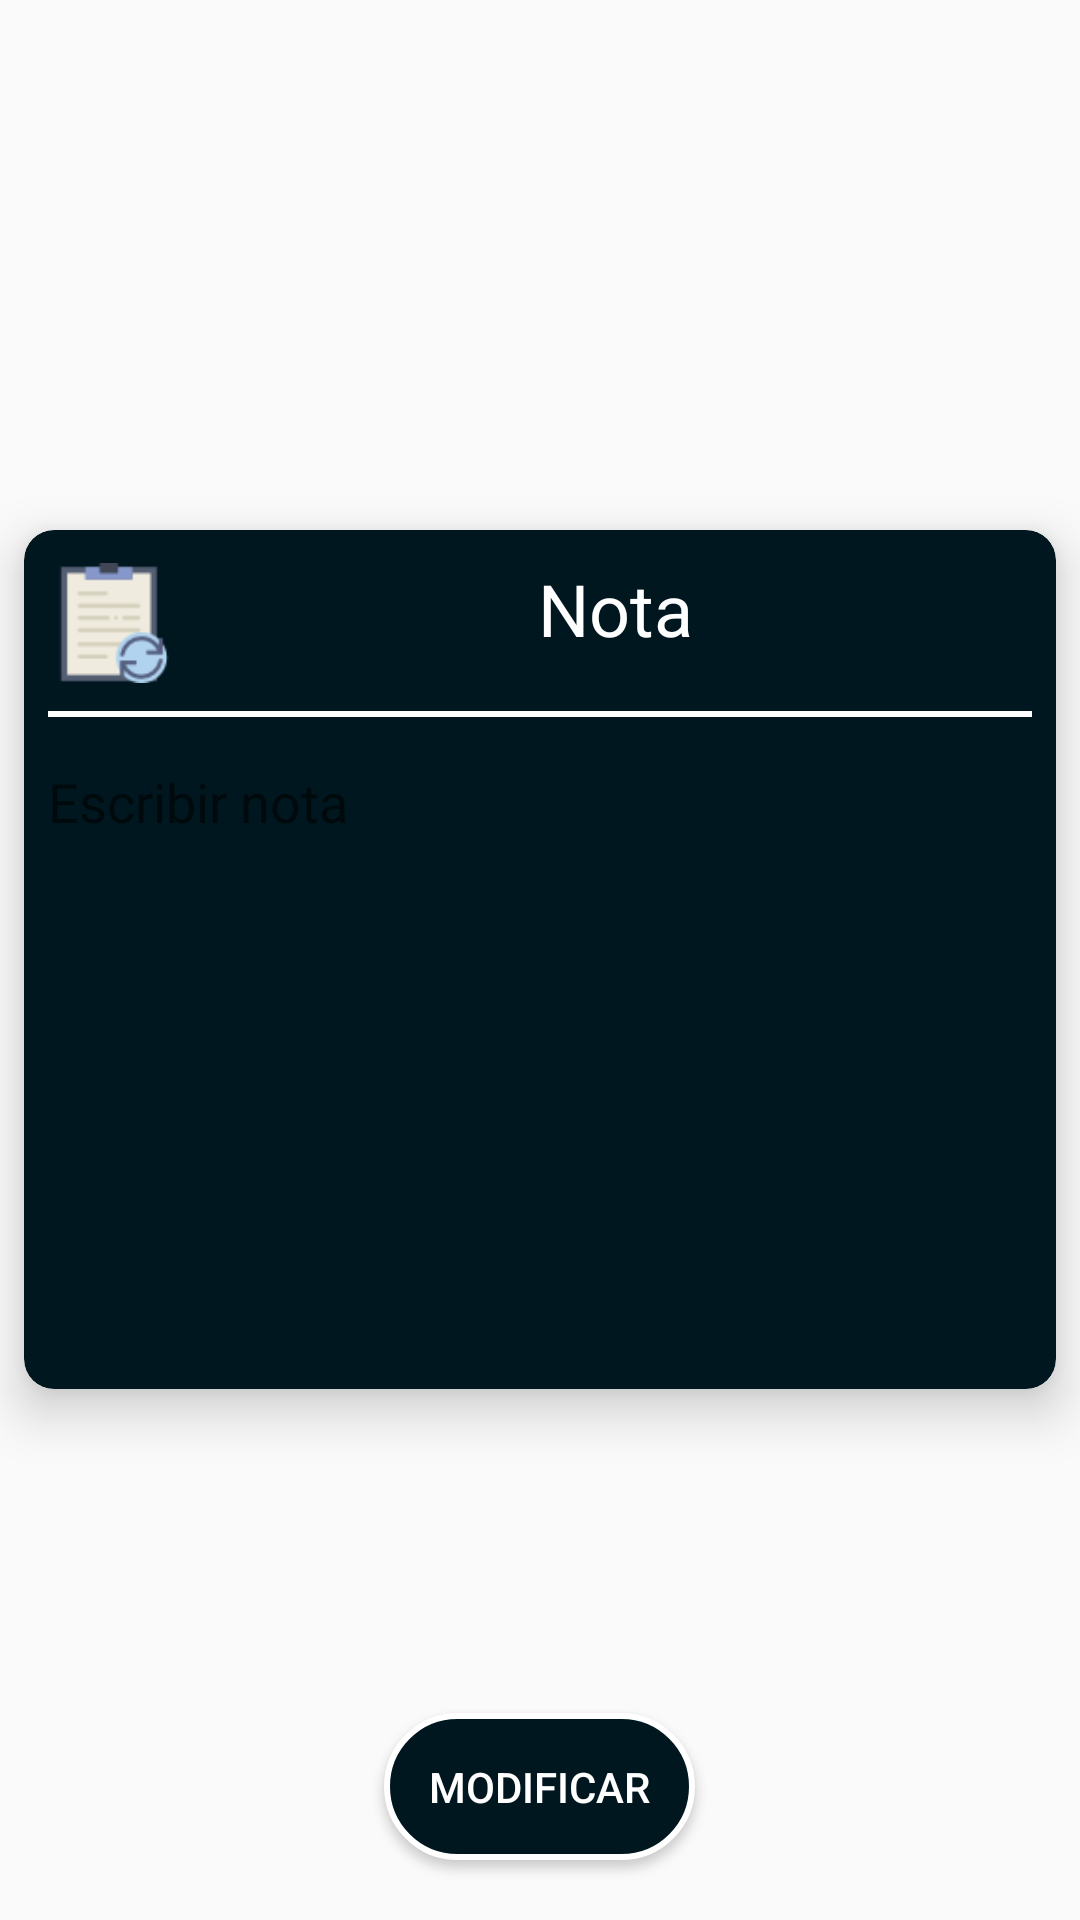

Icons on this 1080px×1920px Android screen, each with the point to tap as [x,y]:
update note: [114,623]
